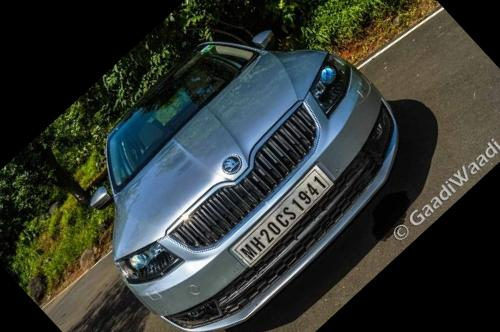plate: (213, 149, 357, 287)
